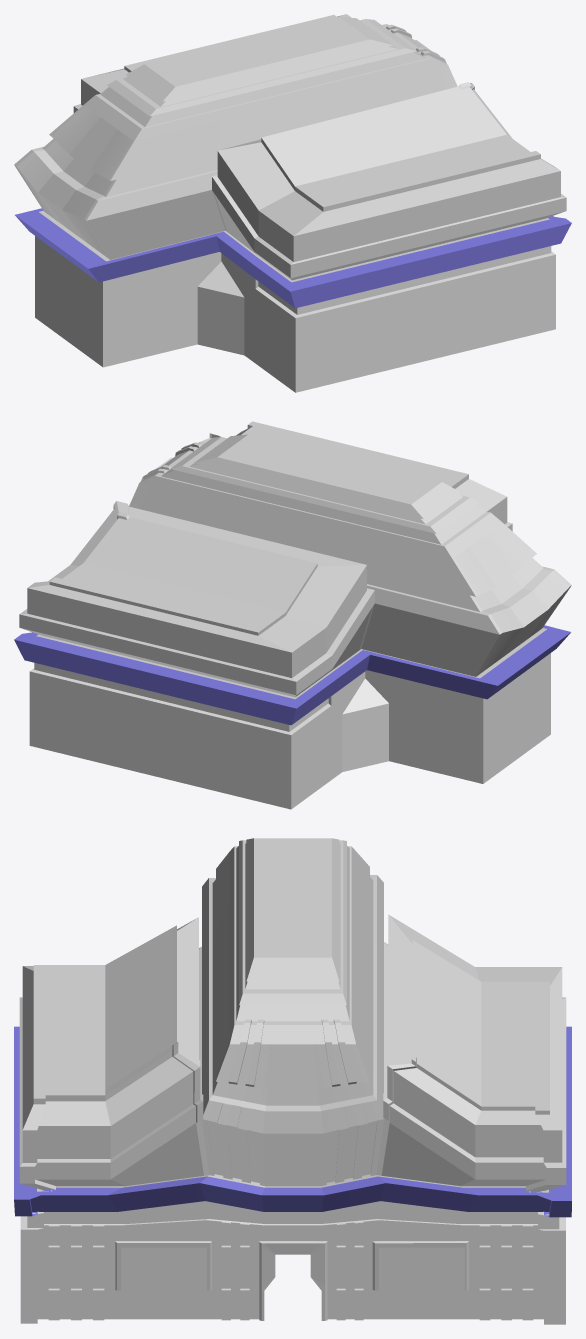
The model's file is FBX_PoliceStation.fbx.
The picture shows the model from 3 angles, top to bottom: view 1: azimuth 30°, elevation 25°; view 2: azimuth 150°, elevation 25°; view 3: azimuth 270°, elevation 25°; orthographic projection. The views are drawn at different scales.
Parts seen in each view (by area): view 1: FBX_UC_sPolice; view 2: FBX_UC_sPolice; view 3: FBX_UC_sPolice.
Part boxes in pixels (x1,y1,x2,y2): FBX_UC_sPolice: (14,14,571,392); FBX_UC_sPolice: (14,421,571,809); FBX_UC_sPolice: (14,838,571,1324).
Size of the model in its own units: 3437 by 1948 by 3194.
